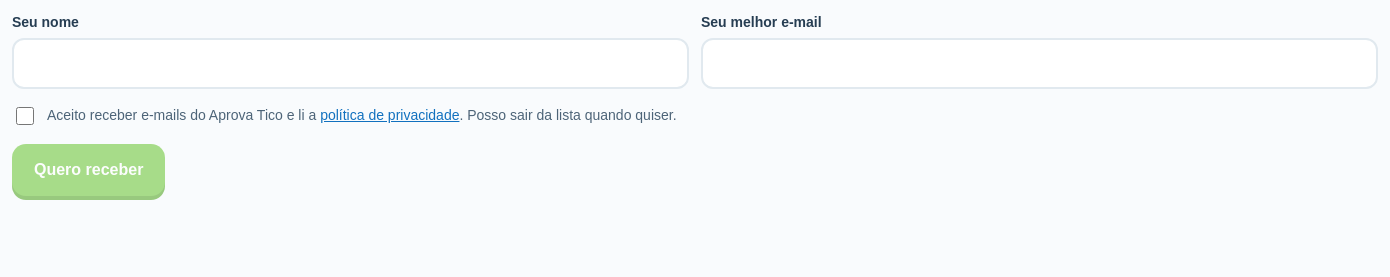
Test case: página inicial › e-mail na lista com erro do servidor: nenhum Lead
Type "a@b.com" into the field labelled "Seu melhor e-mail" at coordinates (1040, 64), box [701, 38, 1378, 90]
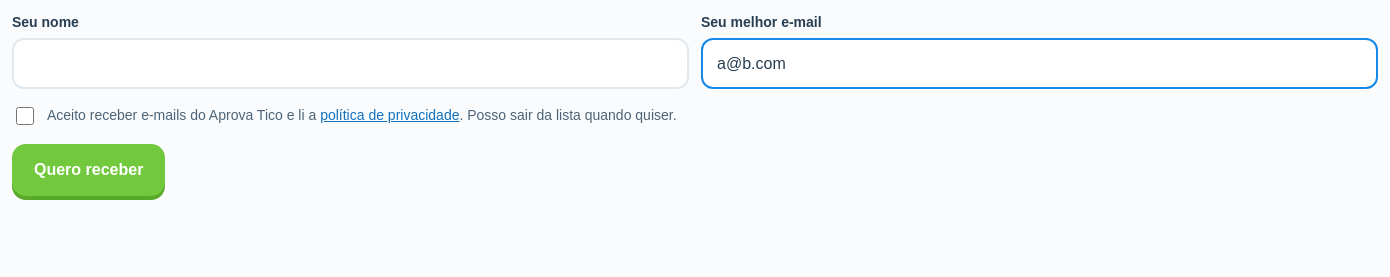
Click the checkbox at coordinates (25, 116), box [16, 108, 34, 126]
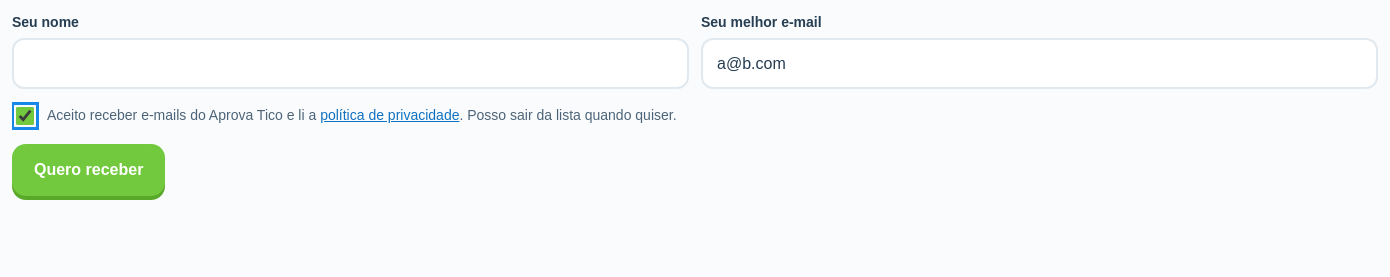
Click the button "Quero receber" at coordinates (89, 170), box [12, 144, 165, 196]
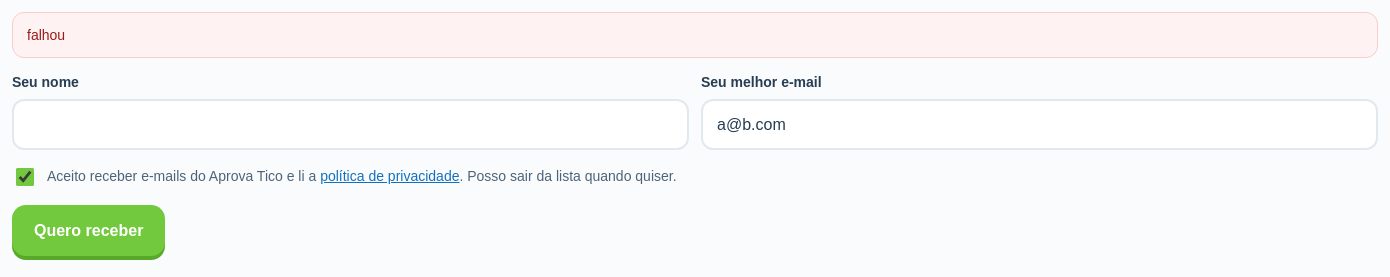
Result: the message "falhou" is shown at [12, 12, 1378, 58]
